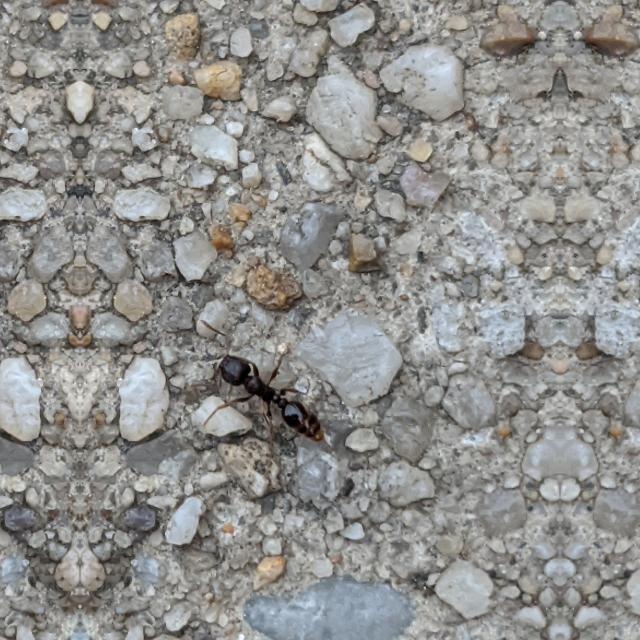Tetramorium: (185, 320, 357, 470)
